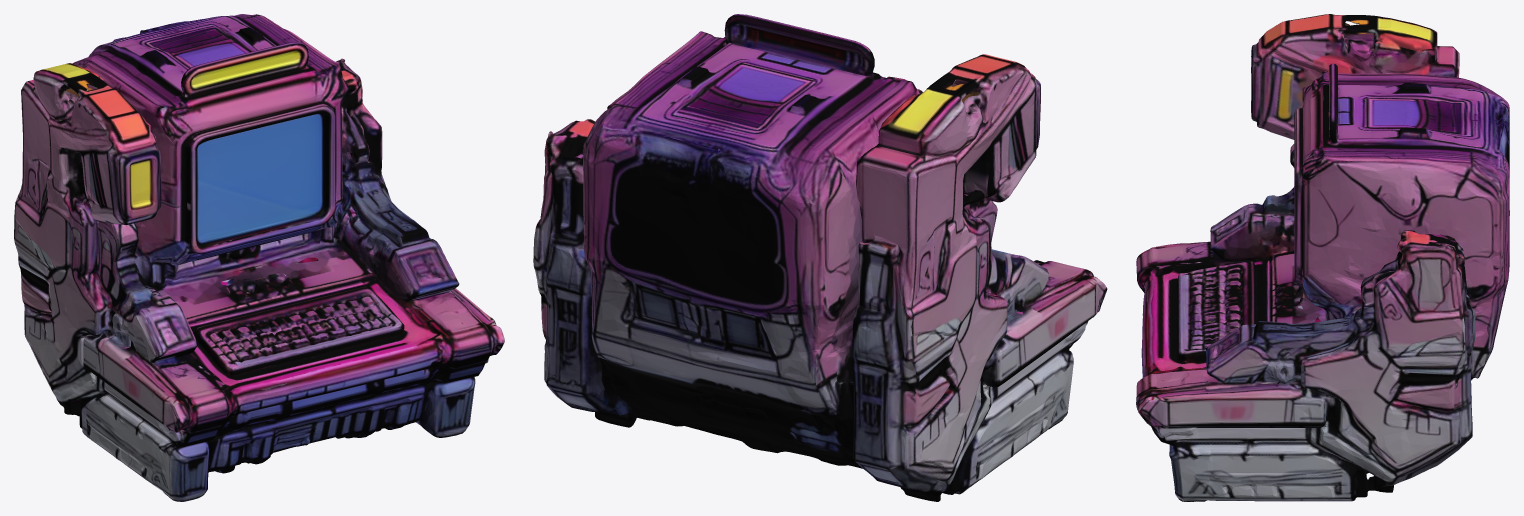
3 renders of one model, left to right at view 1: azimuth 30°, elevation 25°; view 2: azimuth 150°, elevation 25°; view 3: azimuth 270°, elevation 25°, orthographic. The views are drawn at different scales.
Visible parts, largest first — view 1: temp_mesh.ply; view 2: temp_mesh.ply; view 3: temp_mesh.ply.
Part boxes in pixels (x1,y1,x2,y2): temp_mesh.ply: (14, 14, 504, 501); temp_mesh.ply: (533, 14, 1107, 501); temp_mesh.ply: (1136, 14, 1509, 501).
Bounding box in the file's own units: 1.8 × 1.83 × 1.79.
1 material, 1 textured.
